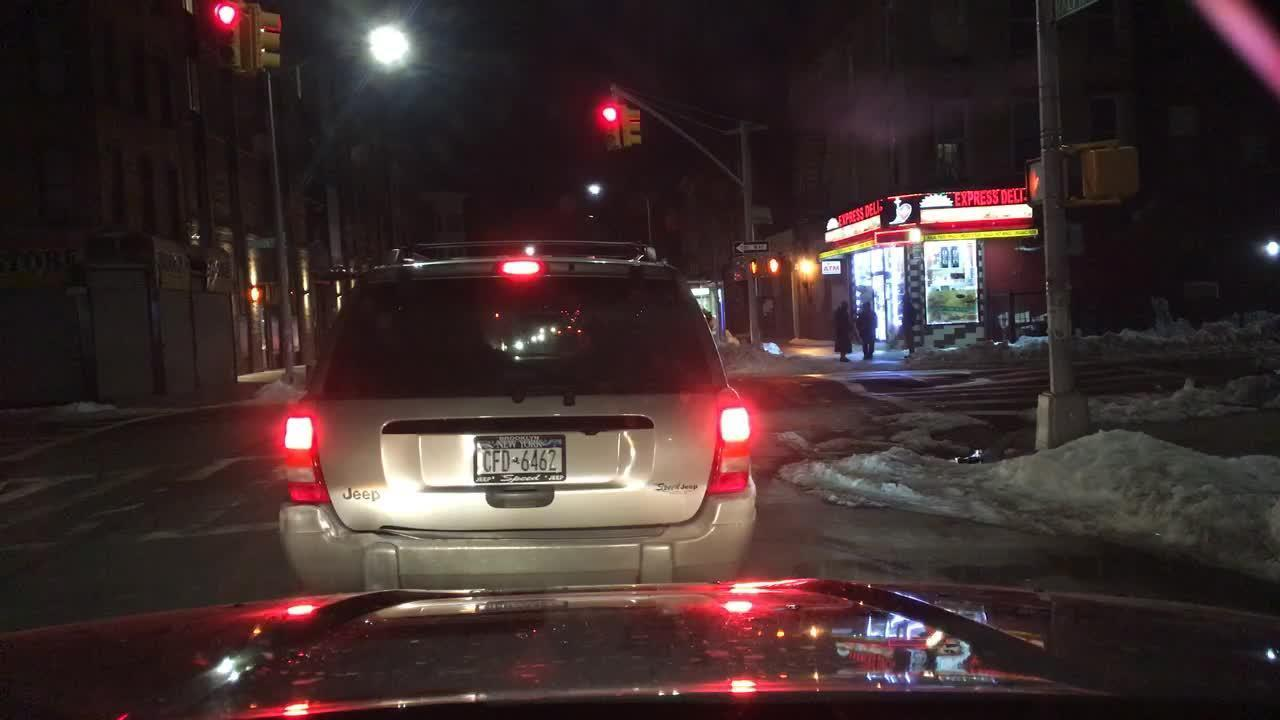jeep: (333, 479, 395, 513)
